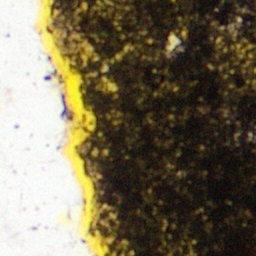cement_matrix: (53, 0, 255, 255), (168, 36, 178, 49), (82, 45, 90, 55), (106, 83, 111, 87)
cracks: (41, 0, 110, 255)
gravel_crushed_stones: (0, 0, 93, 255), (169, 37, 177, 48), (83, 46, 89, 54), (107, 84, 110, 86)
